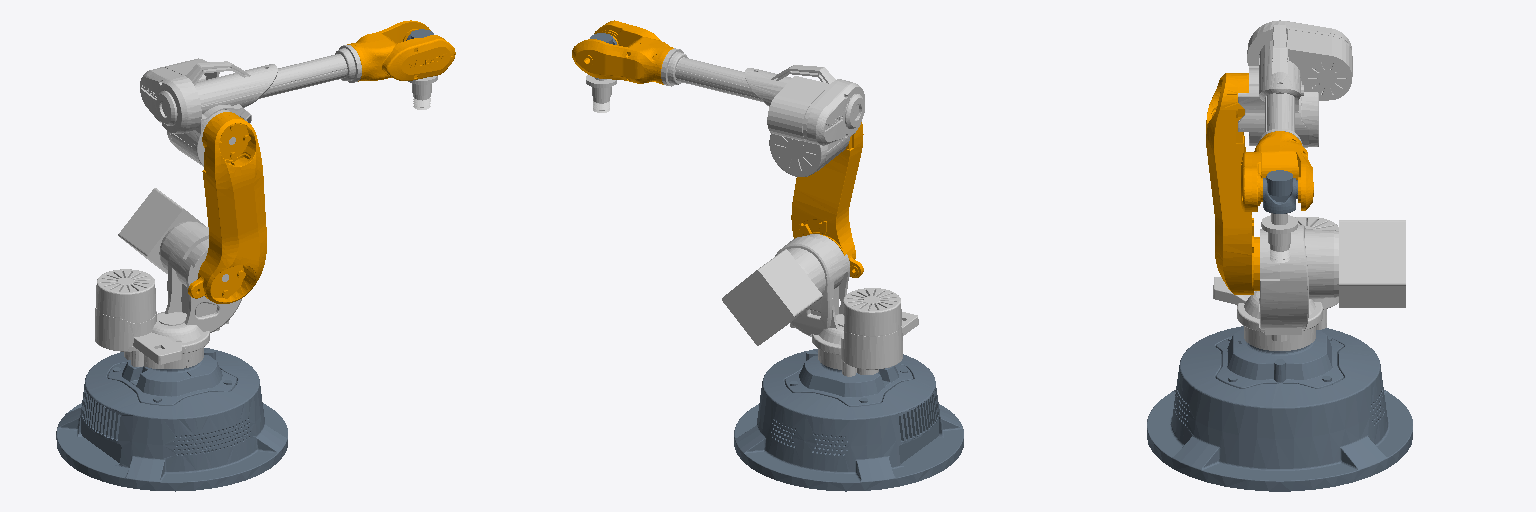
URDF robot description (Mirobot):
<?xml version="1.0" encoding="utf-8"?>
<!-- =================================================================================== -->
<!-- |    This document was autogenerated by xacro from mirobot_urdf_2.xacro           | -->
<!-- |    EDITING THIS FILE BY HAND IS NOT RECOMMENDED                                 | -->
<!-- =================================================================================== -->
<!-- This URDF was automatically created by SolidWorks to URDF Exporter! Originally created by [author] ([email redacted]) 
     Commit Version: 1.5.1-0-g916b5db  Build Version: 1.5.7152.31018
     For more information, please see http://wiki.ros.org/sw_urdf_exporter -->
<robot name="Mirobot">
  <link name="base_link">
    <inertial>
      <origin rpy="0 0 0" xyz="0.00072554 2.2065E-05 0.024268"/>
      <mass value="0.01"/>
      <inertia ixx="10" ixy="0" ixz="0" iyy="10" iyz="0" izz="10"/>
    </inertial>
    <visual>
      <origin rpy="0 0 0" xyz="0 0 0"/>
      <geometry>
        <mesh filename="./meshes/base_link.STL"/>
      </geometry>
      <material name="">
        <color rgba="0.44 0.5 0.56 1"/>
      </material>
    </visual>
    <collision>
      <origin rpy="0 0 0" xyz="0 0 0"/>
      <geometry>
        <mesh filename="./meshes/base_link.STL"/>
      </geometry>
    </collision>
  </link>
  <link name="Link1">
    <inertial>
      <origin rpy="0 0 0" xyz="0.011601 0.022341 0.044136"/>
      <mass value="0.001"/>
      <inertia ixx="10" ixy="0" ixz="0" iyy="10" iyz="0" izz="10"/>
    </inertial>
    <visual>
      <origin rpy="0 0 0" xyz="0 0 0"/>
      <geometry>
        <mesh filename="./meshes/Link1.STL"/>
      </geometry>
      <material name="">
        <color rgba="0.83 0.83 0.83 1"/>
      </material>
    </visual>
    <collision>
      <origin rpy="0 0 0" xyz="0 0 0"/>
      <geometry>
        <mesh filename="./meshes/Link1.STL"/>
      </geometry>
    </collision>
  </link>
  <joint name="joint1" type="revolute">
    <origin rpy="0 0 0" xyz="0 0 0.065406"/>
    <parent link="base_link"/>
    <child link="Link1"/>
    <axis xyz="0 0 1"/>
    <limit effort="200" lower="-1.7453" upper="2.7925" velocity="0.514"/>
  </joint>
  <link name="Link2">
    <inertial>
      <origin rpy="0 0 0" xyz="0.054694 0.0036383 -0.0056108"/>
      <mass value="0.001"/>
      <inertia ixx="10" ixy="0" ixz="0" iyy="10" iyz="0" izz="10"/>
    </inertial>
    <visual>
      <origin rpy="0 0 0" xyz="0 0 0"/>
      <geometry>
        <mesh filename="./meshes/Link2.STL"/>
      </geometry>
      <material name="">
        <color rgba="1 0.65 0 1"/>
      </material>
    </visual>
    <collision>
      <origin rpy="0 0 0" xyz="0 0 0"/>
      <geometry>
        <mesh filename="./meshes/Link2.STL"/>
      </geometry>
    </collision>
  </link>
  <joint name="joint2" type="revolute">
    <origin rpy="3.1402 -1.5708 1.5722" xyz="0.029687 -0.022 0.061593"/>
    <parent link="Link1"/>
    <child link="Link2"/>
    <axis xyz="0 0 1"/>
    <limit effort="200" lower="-0.5235" upper="1.2217" velocity="1.134"/>
  </joint>
  <link name="Link3">
    <inertial>
      <origin rpy="0 0 0" xyz="0.0099997 0.0071403 0.037517"/>
      <mass value="0.001"/>
      <inertia ixx="10" ixy="0" ixz="0" iyy="10" iyz="0" izz="10"/>
    </inertial>
    <visual>
      <origin rpy="0 0 0" xyz="0 0 0"/>
      <geometry>
        <mesh filename="./meshes/Link3.STL"/>
      </geometry>
      <material name="">
        <color rgba="0.83 0.83 0.83 1"/>
      </material>
    </visual>
    <collision>
      <origin rpy="0 0 0" xyz="0 0 0"/>
      <geometry>
        <mesh filename="./meshes/Link3.STL"/>
      </geometry>
    </collision>
  </link>
  <joint name="joint3" type="revolute">
    <origin rpy="0 0 0" xyz="0.108 0 -0.0094471"/>
    <parent link="Link2"/>
    <child link="Link3"/>
    <axis xyz="0 0 1"/>
    <limit effort="200" lower="-2.9671" upper="1.0472" velocity="0.489"/>
  </joint>
  <link name="Link4">
    <inertial>
      <origin rpy="0 0 0" xyz="-8.0804E-06 0.0043797 0.040569"/>
      <mass value="0.001"/>
      <inertia ixx="10" ixy="0" ixz="0" iyy="10" iyz="0" izz="10"/>
    </inertial>
    <visual>
      <origin rpy="0 0 0" xyz="0 0 0"/>
      <geometry>
        <mesh filename="./meshes/Link4.STL"/>
      </geometry>
      <material name="">
        <color rgba="1 0.65 0 1"/>
      </material>
    </visual>
    <collision>
      <origin rpy="0 0 0" xyz="0 0 0"/>
      <geometry>
        <mesh filename="./meshes/Link4.STL"/>
      </geometry>
    </collision>
  </link>
  <joint name="joint4" type="revolute">
    <origin rpy="-1.5708 0 0" xyz="0.020001 0.10743 0.031439"/>
    <parent link="Link3"/>
    <child link="Link4"/>
    <axis xyz="0 0 1"/>
    <limit effort="200" lower="-6.1086" upper="6.1086" velocity="1.92"/>
  </joint>
  <link name="Link5">
    <inertial>
      <origin rpy="0 0 0" xyz="0.00025302 -0.0020133 0.010352"/>
      <mass value="0.001"/>
      <inertia ixx="10" ixy="0" ixz="0" iyy="10" iyz="0" izz="10"/>
    </inertial>
    <visual>
      <origin rpy="0 0 0" xyz="0 0 0"/>
      <geometry>
        <mesh filename="./meshes/Link5.STL"/>
      </geometry>
      <material name="">
        <color rgba="0.44 0.5 0.56 1"/>
      </material>
    </visual>
    <collision>
      <origin rpy="0 0 0" xyz="0 0 0"/>
      <geometry>
        <mesh filename="./meshes/Link5.STL"/>
      </geometry>
    </collision>
  </link>
  <joint name="joint5" type="revolute">
    <origin rpy="1.5708 -1.5708 -3.1416" xyz="0 -0.010414 0.06155"/>
    <parent link="Link4"/>
    <child link="Link5"/>
    <axis xyz="0 0 -1"/>
    <limit effort="200" lower="-3.5779" upper="0.6283" velocity="0.576"/>
  </joint>
  <link name="Link6">
    <inertial>
      <origin rpy="0 0 0" xyz="5.5511E-17 5.421E-20 -0.010506"/>
      <mass value="0.001"/>
      <inertia ixx="10" ixy="0" ixz="0" iyy="10" iyz="0" izz="10"/>
    </inertial>
    <visual>
      <origin rpy="0 0 0" xyz="0 0 0"/>
      <geometry>
        <mesh filename="./meshes/Link6.STL"/>
      </geometry>
      <material name="">
        <color rgba="0.83 0.83 0.83 1"/>
      </material>
    </visual>
    <collision>
      <origin rpy="0 0 0" xyz="0 0 0"/>
      <geometry>
        <mesh filename="./meshes/Link6.STL"/>
      </geometry>
    </collision>
  </link>
  <joint name="joint6" type="revolute">
    <origin rpy="-1.5708 0 0" xyz="0 -0.01628 0.010525"/>
    <parent link="Link5"/>
    <child link="Link6"/>
    <axis xyz="0 0 1"/>
    <limit effort="200" lower="-6.2832" upper="6.2832" velocity="1.152"/>
  </joint>
  <link name="tool0"/>
  <joint name="joint6-tool0" type="fixed">
    <origin rpy="0 3.14159 0" xyz="0 0 -0.0295"/>
    <parent link="Link6"/>
    <child link="tool0"/>
    <axis xyz="0 0 0"/>
  </joint>
  <transmission name="tran1">
    <type>transmission_interface/SimpleTransmission</type>
    <joint name="joint1">
      <hardwareInterface>hardware_interface/PositionJointInterface</hardwareInterface>
    </joint>
    <actuator name="motor1">
      <hardwareInterface>hardware_interface/PositionJointInterface</hardwareInterface>
      <mechanicalReduction>1</mechanicalReduction>
    </actuator>
  </transmission>
  <transmission name="tran1">
    <type>transmission_interface/SimpleTransmission</type>
    <joint name="joint2">
      <hardwareInterface>hardware_interface/PositionJointInterface</hardwareInterface>
    </joint>
    <actuator name="motor1">
      <hardwareInterface>hardware_interface/PositionJointInterface</hardwareInterface>
      <mechanicalReduction>1</mechanicalReduction>
    </actuator>
  </transmission>
  <transmission name="tran1">
    <type>transmission_interface/SimpleTransmission</type>
    <joint name="joint3">
      <hardwareInterface>hardware_interface/PositionJointInterface</hardwareInterface>
    </joint>
    <actuator name="motor1">
      <hardwareInterface>hardware_interface/PositionJointInterface</hardwareInterface>
      <mechanicalReduction>1</mechanicalReduction>
    </actuator>
  </transmission>
  <transmission name="tran1">
    <type>transmission_interface/SimpleTransmission</type>
    <joint name="joint4">
      <hardwareInterface>hardware_interface/PositionJointInterface</hardwareInterface>
    </joint>
    <actuator name="motor1">
      <hardwareInterface>hardware_interface/PositionJointInterface</hardwareInterface>
      <mechanicalReduction>1</mechanicalReduction>
    </actuator>
  </transmission>
  <transmission name="tran1">
    <type>transmission_interface/SimpleTransmission</type>
    <joint name="joint5">
      <hardwareInterface>hardware_interface/PositionJointInterface</hardwareInterface>
    </joint>
    <actuator name="motor1">
      <hardwareInterface>hardware_interface/PositionJointInterface</hardwareInterface>
      <mechanicalReduction>1</mechanicalReduction>
    </actuator>
  </transmission>
  <transmission name="tran1">
    <type>transmission_interface/SimpleTransmission</type>
    <joint name="joint6">
      <hardwareInterface>hardware_interface/PositionJointInterface</hardwareInterface>
    </joint>
    <actuator name="motor1">
      <hardwareInterface>hardware_interface/PositionJointInterface</hardwareInterface>
      <mechanicalReduction>1</mechanicalReduction>
    </actuator>
  </transmission>
  <!-- ros_control plugin -->
  <gazebo>
    <plugin filename="libgazebo_ros_control.so" name="gazebo_ros_control">
      <robotNamespace>/mirobot</robotNamespace>
      <robotSimType>gazebo_ros_control/DefaultRobotHWSim</robotSimType>
      <legacyModeNS>true</legacyModeNS>
    </plugin>
  </gazebo>
</robot>

--- What the picture shows (computed from the rendered views, not written in the file) ---
3 views of the same robot in one strip: view 1: azimuth 30°, elevation 25°; view 2: azimuth 150°, elevation 25°; view 3: azimuth 270°, elevation 25° (orthographic).
Model Mirobot with 8 links and 7 joints (6 revolute, 1 fixed), rooted at base_link, posed all joints at 0.
Links seen in each view (by area): view 1: base_link, Link1, Link2, Link3, Link4, Link6; view 2: base_link, Link1, Link3, Link2, Link4, Link6; view 3: base_link, Link1, Link3, Link2, Link4, Link5, Link6.
Boxes of the visible links, x1=… form: base_link: x1=56, y1=348, x2=287, y2=491; Link1: x1=95, y1=188, x2=241, y2=368; Link2: x1=188, y1=112, x2=266, y2=303; Link3: x1=140, y1=45, x2=361, y2=166; Link4: x1=347, y1=20, x2=455, y2=81; Link6: x1=408, y1=76, x2=437, y2=109; base_link: x1=734, y1=349, x2=963, y2=491; Link1: x1=722, y1=234, x2=918, y2=376; Link3: x1=661, y1=48, x2=864, y2=176; Link2: x1=791, y1=122, x2=863, y2=277; Link4: x1=572, y1=20, x2=673, y2=84; Link6: x1=586, y1=75, x2=616, y2=112; base_link: x1=1147, y1=326, x2=1412, y2=491; Link1: x1=1213, y1=217, x2=1405, y2=350; Link3: x1=1238, y1=20, x2=1352, y2=147; Link2: x1=1206, y1=73, x2=1259, y2=294; Link4: x1=1241, y1=131, x2=1313, y2=211; Link5: x1=1263, y1=170, x2=1297, y2=213; Link6: x1=1261, y1=213, x2=1297, y2=262.
Bounding box of the posed robot: 0.2934 × 0.16 × 0.2817 m (x, y, z).
7 mesh visuals loaded from 7 distinct referenced files (7 binary STL).
